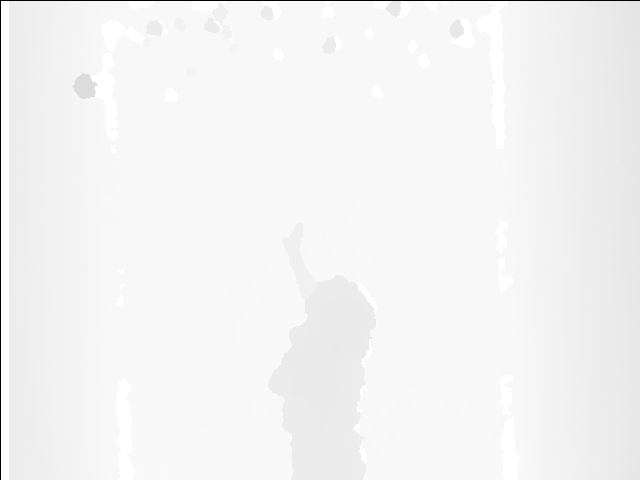hand: (280, 222, 308, 258)
